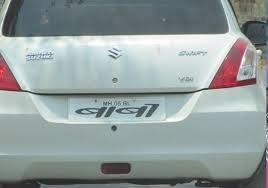Liscence Plate: (75, 100, 165, 124)
